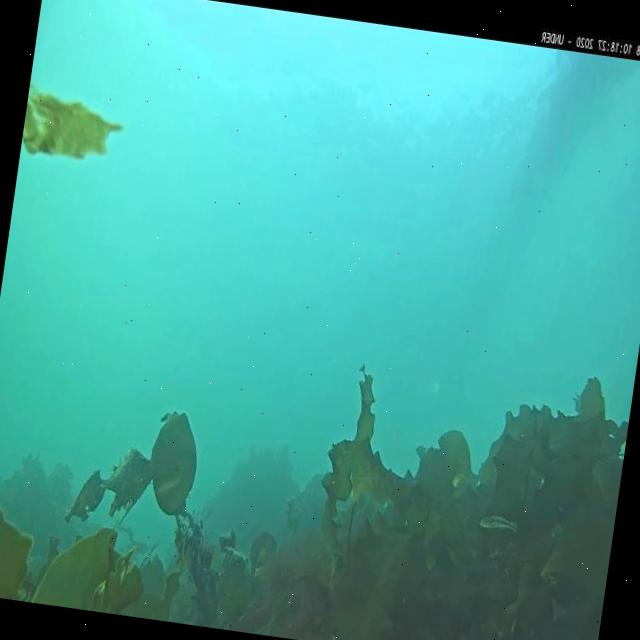fish: (478, 512, 518, 532)
